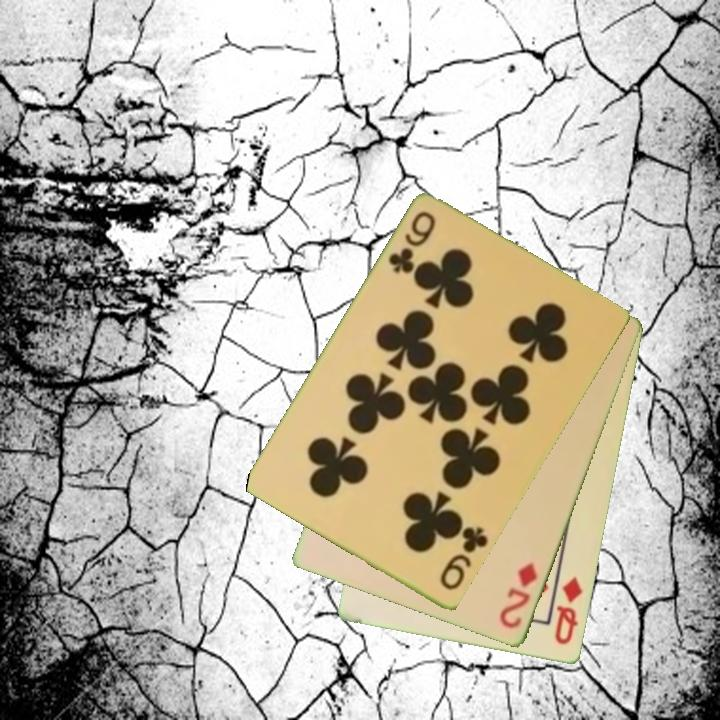2d: (496, 559, 541, 632)
9c: (436, 523, 491, 594), (384, 208, 439, 277)
Qd: (551, 573, 586, 648)
